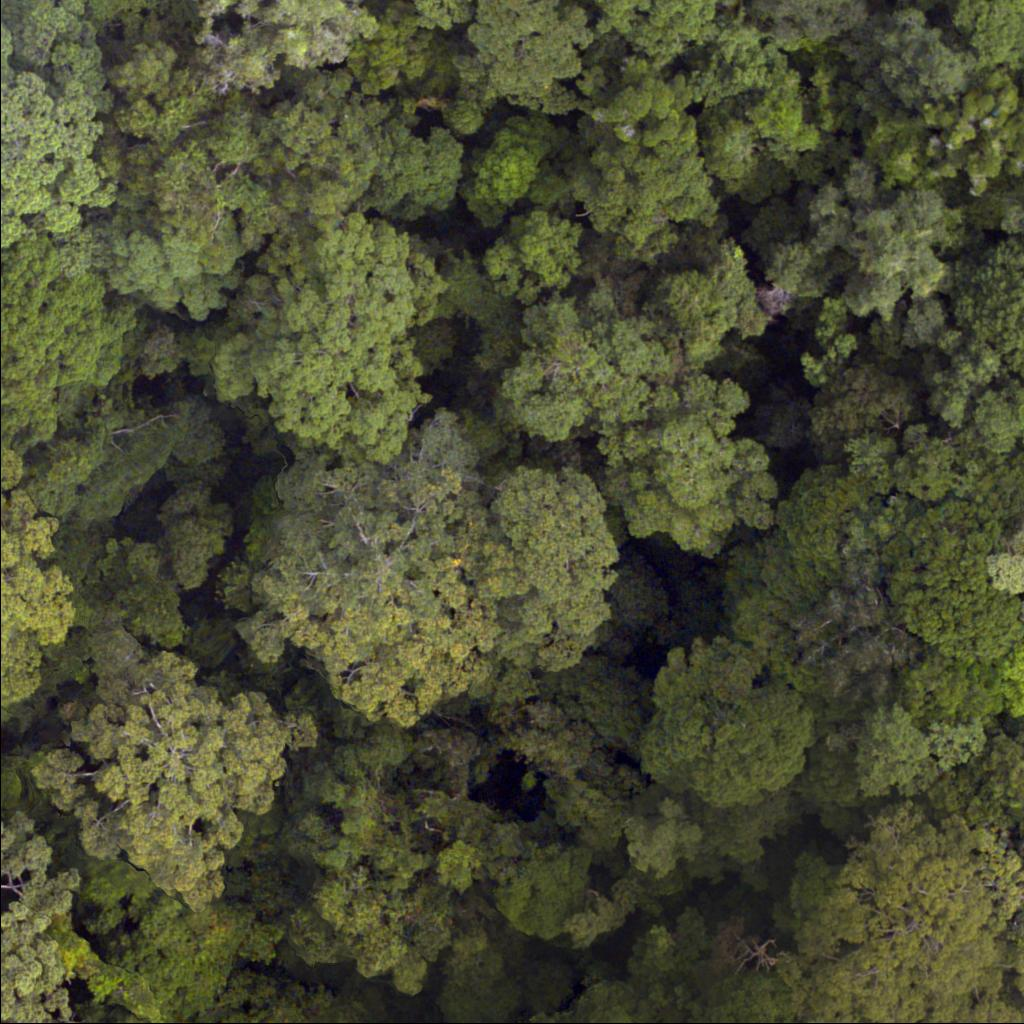crown: (22, 632, 307, 915), (275, 723, 509, 996), (807, 821, 1023, 1023), (637, 632, 826, 808), (74, 863, 281, 1023), (0, 28, 127, 239), (0, 461, 101, 708), (879, 495, 1023, 658), (573, 113, 721, 255), (0, 822, 83, 1023), (467, 0, 600, 108), (857, 704, 983, 805), (359, 111, 467, 225), (497, 811, 596, 931), (464, 122, 560, 224), (0, 0, 160, 46), (585, 0, 712, 45), (995, 650, 1023, 725)
